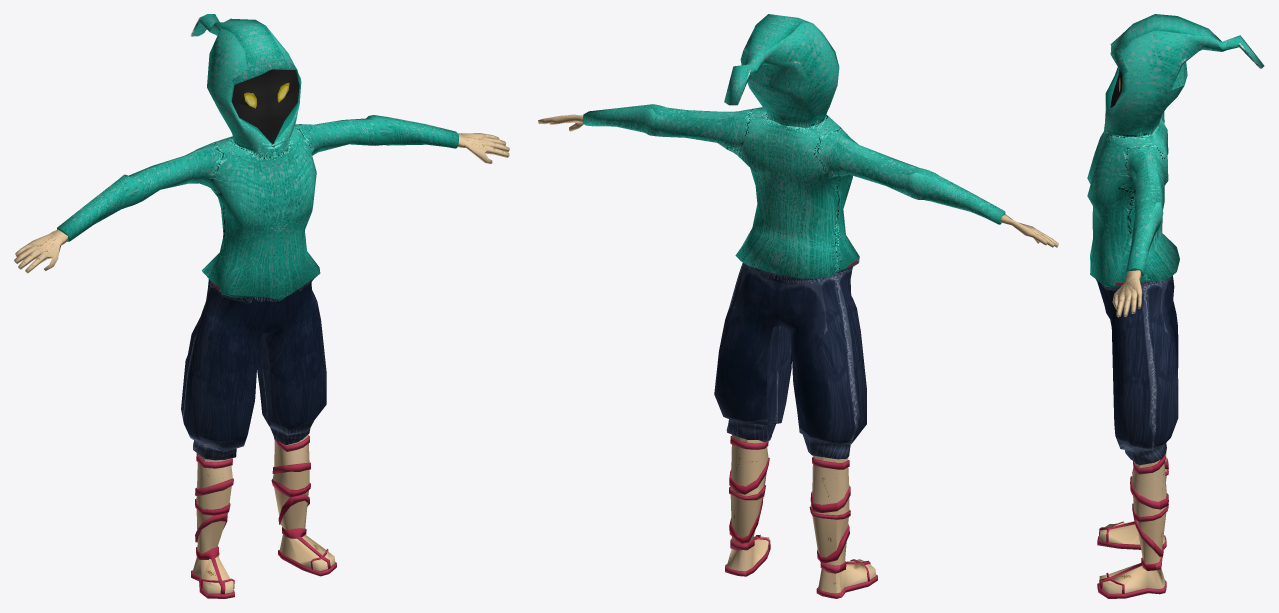
Rendered from ari textured.FBX.
3 renders of one model, left to right at view 1: azimuth 30°, elevation 25°; view 2: azimuth 150°, elevation 25°; view 3: azimuth 270°, elevation 25°, orthographic. The views are drawn at different scales.
Visible parts, largest first — view 1: Ari 2; view 2: Ari 2; view 3: Ari 2.
Boxes of the visible parts, x1=… form: Ari 2: x1=14, y1=14, x2=509, y2=598; Ari 2: x1=538, y1=14, x2=1058, y2=598; Ari 2: x1=1087, y1=14, x2=1264, y2=598.
Size of the model in its own units: 3.22 by 3.37 by 0.9905.
1 material, 1 textured.
